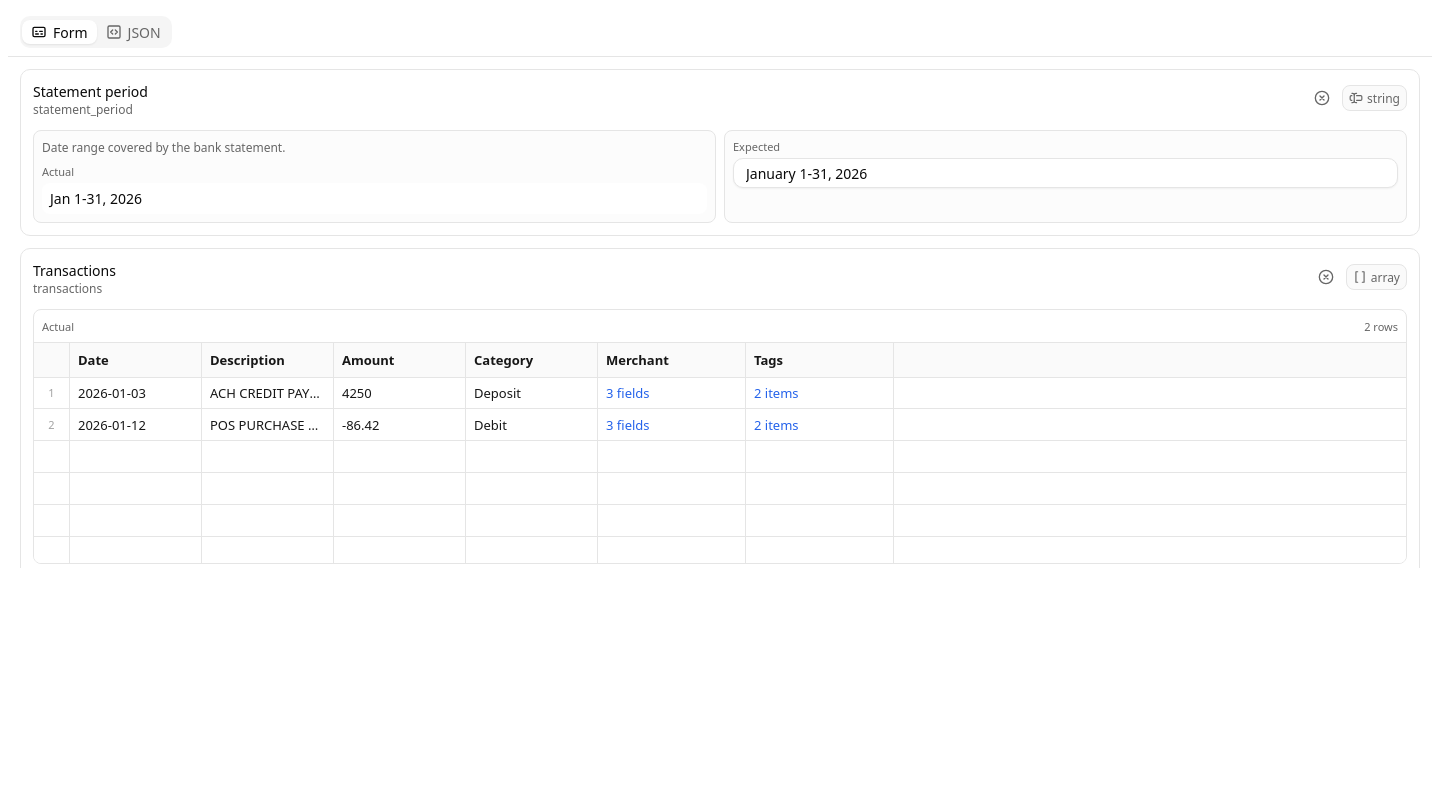
Test: HumanReviewPanel › keeps the actual grid read-only
Step 1. Double-click the cell "Deposit" → (532, 393), box [466,377,598,409]
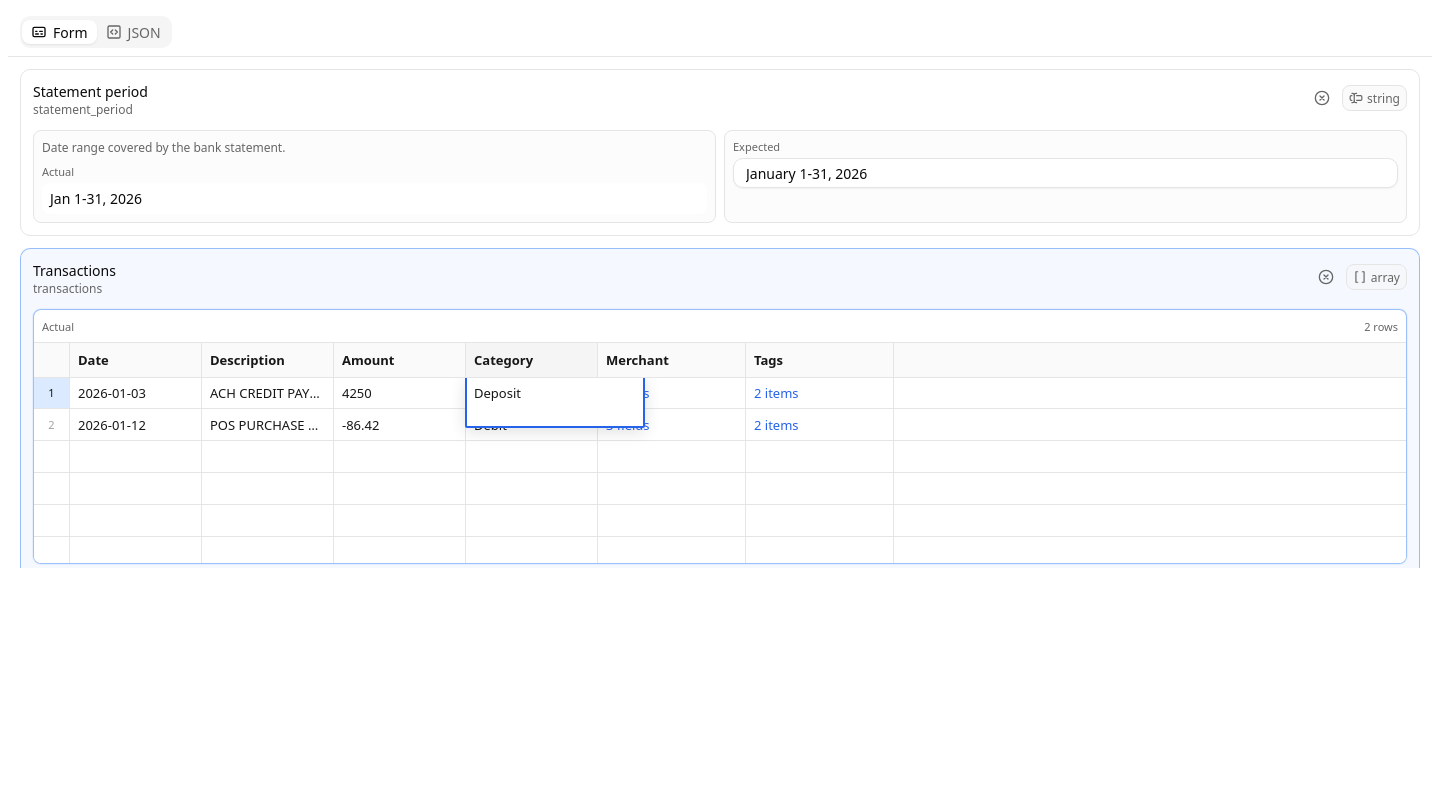
Step 2. Replace the text in the text box named "Edit cell" with "Other" → (555, 402), box [465,376,645,428]
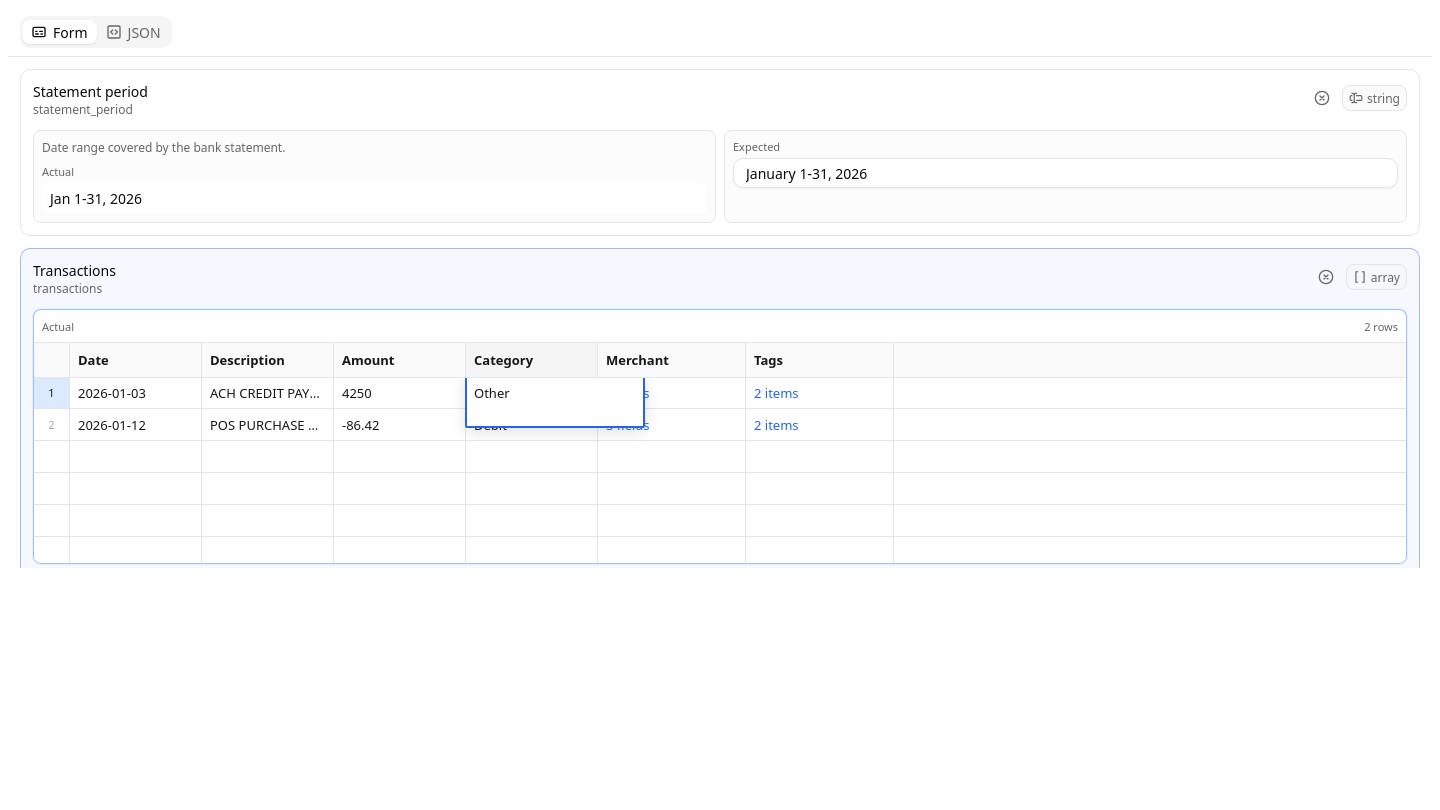
Step 3. Press Enter in the text box named "Edit cell", box [465,376,645,428]
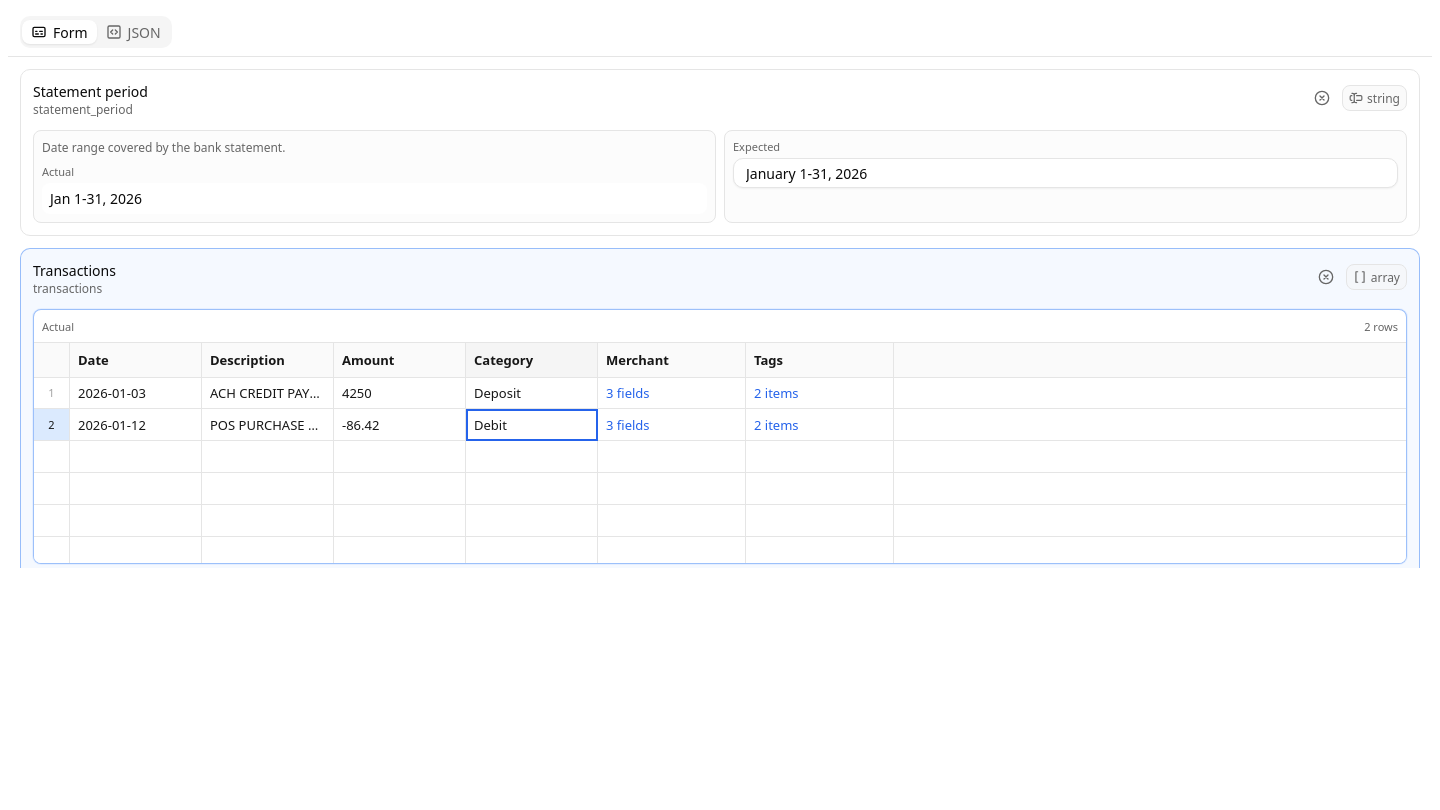
Now the cell "Deposit" is shown, box [466,377,598,409]
